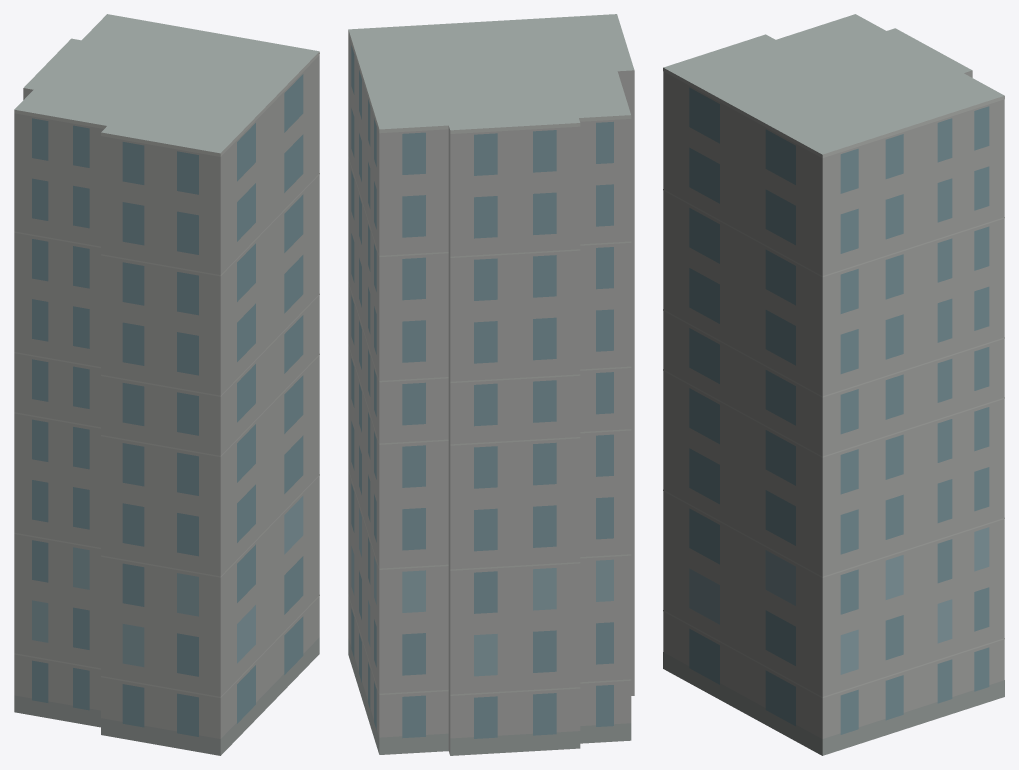
Rendered from survey-upis-32667094.glb.
The picture shows the model from 3 angles, left to right: view 1: azimuth 30°, elevation 25°; view 2: azimuth 150°, elevation 25°; view 3: azimuth 270°, elevation 25°; orthographic projection. The views are drawn at different scales.
Visible parts, largest first — view 1: survey-upis-32667094.tmp; view 2: survey-upis-32667094.tmp; view 3: survey-upis-32667094.tmp.
Part boxes in pixels (x1,y1,x2,y2): survey-upis-32667094.tmp: (14,14,319,755); survey-upis-32667094.tmp: (348,14,634,755); survey-upis-32667094.tmp: (663,14,1004,755).
Bounding box in the file's own units: 20.34 × 40.5 × 20.88.
